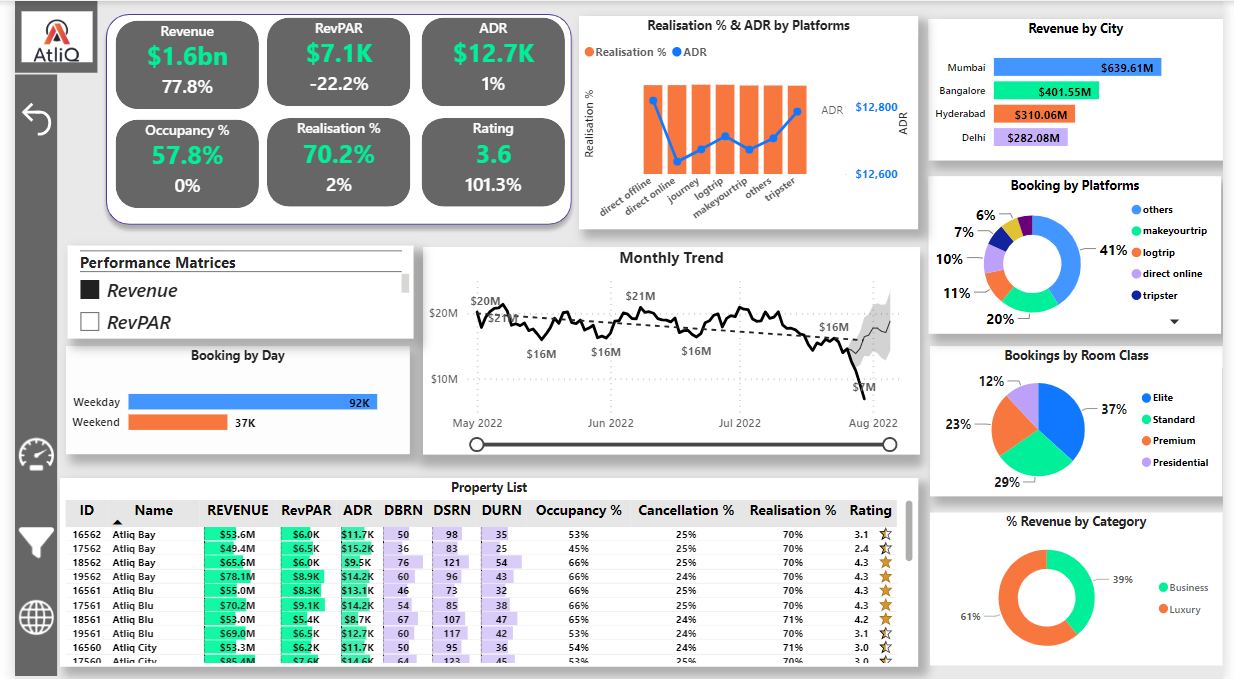

Layout of this report page (visuals, bound fields, positions):
{"tool":"powerbi","page":{"name":"Dashboard","canvas":[1280,720],"ordinal":0},"visuals":[{"type":"shape","title":"logo BG","box":[0,0,87.4,76.3],"z":0,"group":"g8"},{"type":"shape","title":"KPI paneWhite BG","box":[87.4,4.8,511.3,241.1],"z":0,"group":"g9"},{"type":"shape","title":"5card BG","box":[267,18.2,152.1,93.8],"z":0,"group":"g4"},{"type":"shape","title":"5card BG","box":[430.4,18.2,152.1,93.8],"z":0,"group":"g2"},{"type":"shape","title":"5card BG","box":[106.8,21.5,152.1,93.8],"z":0,"group":"g1"},{"type":"shape","title":"5card BG","box":[267,125,152.1,93.8],"z":0,"group":"g5"},{"type":"shape","title":"5card BG","box":[430.4,125,152.1,93.8],"z":0,"group":"g6"},{"type":"shape","title":"5card BG","box":[106.8,126.6,152.1,93.8],"z":0,"group":"g3"},{"type":"lineChart","title":"Monthly Trend","fields":{"Y":["All Measures.Revenue"],"Category":["dim_date.date.Variation.Date Hierarchy.Year","dim_date.date.Variation.Date Hierarchy.Month","dim_date.date.Variation.Date Hierarchy.Day"]},"box":[431.7,259.4,526.7,220],"z":0,"group":"g7"},{"type":"tableEx","title":"Property List","fields":{"Values":["dim_hotels.property_id","dim_hotels.property_name","All Measures.Revenue","All Measures.RevPAR","All Measures.ADR","All Measures.DBRN","All Measures.DSRN","All Measures.DURN","All Measures.Occupancy %","All Measures.Cancellation %","All Measures.Realisation %","All Measures.Average Rating"]},"box":[47.7,505.4,909.1,200.3],"z":0},{"type":"image","title":" # AtliQ Logo","box":[1.2,0.8,85.8,73.1],"z":1000,"group":"g8"},{"type":"group","id":"g1","title":"# KPI card","box":[106.8,21,152.1,95.5],"z":1000,"group":"g9"},{"type":"card","title":"Revenur WOW %","fields":{"Values":["All Measures.\"RevPAR WoW change %"]},"box":[267.5,64.6,152.1,46.9],"z":1000,"group":"g4"},{"type":"card","title":"Revenur WOW %","fields":{"Values":["All Measures.\"ADR WoW change %"]},"box":[430.9,64.6,152.1,46.9],"z":1000,"group":"g2"},{"type":"card","title":"Revenur WOW %","fields":{"Values":["All Measures.\"Revenue WoW change %"]},"box":[107.3,67.9,152.1,46.9],"z":1000,"group":"g1"},{"type":"card","title":"Rating ","fields":{"Values":["All Measures.Average Rating"]},"box":[430.9,124.5,152.1,56.6],"z":1000,"group":"g6"},{"type":"card","title":"Revenur WOW %","fields":{"Values":["All Measures.\"Realisation WoW change %"]},"box":[267.5,171.4,152.1,46.9],"z":1000,"group":"g5"},{"type":"card","title":"Revenur WOW %","fields":{"Values":["All Measures.\"Occupancy WoW change %"]},"box":[107.3,173,152.1,46.9],"z":1000,"group":"g3"},{"type":"slicer","fields":{"Values":["Booking Matrices.Booking Matrices"]},"box":[55,258.3,366.7,98.3],"z":1000,"group":"g7"},{"type":"card","title":"RevPAR","fields":{"Values":["All Measures.RevPAR"]},"box":[267.5,17.7,152.1,56.6],"z":2000,"group":"g4"},{"type":"group","id":"g2","title":"# KPI card","box":[430.4,17.7,152.1,95.5],"z":2000,"group":"g9"},{"type":"card","title":"ADR","fields":{"Values":["All Measures.ADR"]},"box":[430.9,17.7,152.1,56.6],"z":2000,"group":"g2"},{"type":"card","title":"Revenue","fields":{"Values":["All Measures.Revenue"]},"box":[107.3,21,152.1,56.6],"z":2000,"group":"g1"},{"type":"card","title":"Realisation %","fields":{"Values":["All Measures.Realisation %"]},"box":[267.5,124.5,152.1,56.6],"z":2000,"group":"g5"},{"type":"card","title":"Occupancy %","fields":{"Values":["All Measures.Occupancy %"]},"box":[107.3,126.1,152.1,56.6],"z":2000,"group":"g3"},{"type":"card","title":"Rating WOW %","fields":{"Values":["All Measures.\"Rating WoW change %"]},"box":[430.4,171.4,152.1,46.9],"z":2000,"group":"g6"},{"type":"pieChart","title":"Bookings by Room Class","fields":{"Category":["dim_rooms.room_class"],"Y":["All Measures.Total Bookings"]},"box":[968.9,365.6,309.8,159],"z":2000},{"type":"clusteredBarChart","title":"Revenue by City","fields":{"Category":["dim_hotels.city"],"Y":["All Measures.Revenue"]},"box":[967.9,22.3,311.5,149.4],"z":3000},{"type":"group","id":"g3","title":"# KPI card","box":[106.8,126.1,152.1,95.5],"z":3000,"group":"g9"},{"type":"group","id":"g4","title":"# KPI card","box":[267,17.7,152.1,95.5],"z":4000,"group":"g9"},{"type":"donutChart","title":"Booking by Platforms","fields":{"Category":["fact_bookings.booking_platform"],"Y":["All Measures.Total Bookings"]},"box":[969.5,182.8,309.9,166.9],"z":4000},{"type":"shape","title":"Navigation bar BG","box":[0,77.9,44.5,637.4],"z":5000},{"type":"group","id":"g5","title":"# KPI card","box":[267,124.5,152.1,95.5],"z":5000,"group":"g9"},{"type":"actionButton","title":"reset button ","box":[0,95.4,46.1,58.8],"z":6000},{"type":"group","id":"g6","title":"# KPI card","box":[430.4,124.5,152.6,94.4],"z":6000,"group":"g9"},{"type":"clusteredBarChart","title":"Booking by Day","fields":{"Y":["All Measures.Total Bookings"],"Category":["dim_date.Day Type #DAX"]},"box":[55.6,365.6,364,114.4],"z":7000},{"type":"actionButton","title":"navi pane - map icon ","box":[0,619.7,45.3,66.3],"z":8000},{"type":"actionButton","title":"navi pane - filter icon ","box":[0,550.2,45.3,48.5],"z":9000},{"type":"group","id":"g7","title":"# Trend line graph","box":[55,258.3,903.3,221.7],"z":10000},{"type":"lineStackedColumnComboChart","title":"Realisation % & ADR by Platforms","fields":{"Category":["fact_bookings.booking_platform"],"Y":["All Measures.Realisation %"],"Y2":["All Measures.ADR"]},"box":[598.4,16.4,359,226.2],"z":11000},{"type":"donutChart","title":"% Revenue by Category","fields":{"Category":["dim_hotels.category"],"Y":["All Measures.Revenue"]},"box":[968.9,542.6,309.8,162.3],"z":12000},{"type":"group","id":"g8","title":"# LOGO","box":[0,0,87.4,76.3],"z":13000},{"type":"group","id":"g9","title":"# KPIs","box":[87.4,4.8,511.8,240],"z":14000},{"type":"actionButton","box":[0,443.3,45,73.3],"z":17000}]}

Visuals, with their boxes on the page's 1280x720 design canvas (x1, y1, x2, y2). These are canvas units, not pixel positions in the 1234x679 screenshot, which may show the page scaled, cropped or inside an application window:
"logo BG" shape: (0, 0, 87, 76)
"KPI paneWhite BG" shape: (87, 5, 599, 246)
"5card BG" shape: (267, 18, 419, 112)
"5card BG" shape: (430, 18, 582, 112)
"5card BG" shape: (107, 22, 259, 115)
"5card BG" shape: (267, 125, 419, 219)
"5card BG" shape: (430, 125, 582, 219)
"5card BG" shape: (107, 127, 259, 220)
"Monthly Trend" lineChart: (432, 259, 958, 479)
"Property List" tableEx: (48, 505, 957, 706)
" # AtliQ Logo" image: (1, 1, 87, 74)
"# KPI card" group: (107, 21, 259, 116)
"Revenur WOW %" card: (268, 65, 420, 112)
"Revenur WOW %" card: (431, 65, 583, 112)
"Revenur WOW %" card: (107, 68, 259, 115)
"Rating " card: (431, 124, 583, 181)
"Revenur WOW %" card: (268, 171, 420, 218)
"Revenur WOW %" card: (107, 173, 259, 220)
slicer - Booking Matrices.Booking Matrices: (55, 258, 422, 357)
"RevPAR" card: (268, 18, 420, 74)
"# KPI card" group: (430, 18, 582, 113)
"ADR" card: (431, 18, 583, 74)
"Revenue" card: (107, 21, 259, 78)
"Realisation %" card: (268, 124, 420, 181)
"Occupancy %" card: (107, 126, 259, 183)
"Rating WOW %" card: (430, 171, 582, 218)
"Bookings by Room Class" pieChart: (969, 366, 1279, 525)
"Revenue by City" clusteredBarChart: (968, 22, 1279, 172)
"# KPI card" group: (107, 126, 259, 222)
"# KPI card" group: (267, 18, 419, 113)
"Booking by Platforms" donutChart: (970, 183, 1279, 350)
"Navigation bar BG" shape: (0, 78, 44, 715)
"# KPI card" group: (267, 124, 419, 220)
"reset button " actionButton: (0, 95, 46, 154)
"# KPI card" group: (430, 124, 583, 219)
"Booking by Day" clusteredBarChart: (56, 366, 420, 480)
"navi pane - map icon " actionButton: (0, 620, 45, 686)
"navi pane - filter icon " actionButton: (0, 550, 45, 599)
"# Trend line graph" group: (55, 258, 958, 480)
"Realisation % & ADR by Platforms" lineStackedColumnComboChart: (598, 16, 957, 243)
"% Revenue by Category" donutChart: (969, 543, 1279, 705)
"# LOGO" group: (0, 0, 87, 76)
"# KPIs" group: (87, 5, 599, 245)
actionButton: (0, 443, 45, 517)
